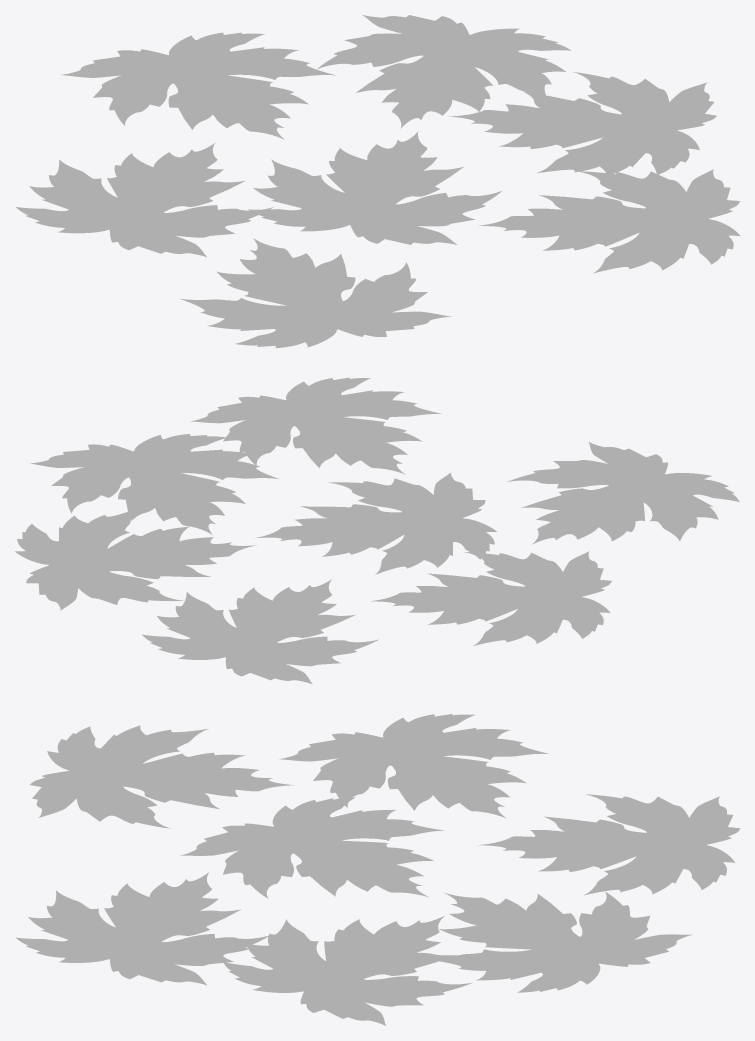
Rendered from FakeLeaf.glb.
3 renders of one model, top to bottom at view 1: azimuth 30°, elevation 25°; view 2: azimuth 150°, elevation 25°; view 3: azimuth 270°, elevation 25°, orthographic. The views are drawn at different scales.
Visible parts, largest first — view 1: Loft.007; view 2: Loft.007; view 3: Loft.007.
Part boxes in pixels (bbox=[...]): Loft.007: bbox=[16, 14, 740, 348]; Loft.007: bbox=[15, 377, 739, 684]; Loft.007: bbox=[15, 714, 740, 1025].
Bounding box in the file's own units: 0.3783 × 3.78e-08 × 0.3714.
1 material, 1 textured.
